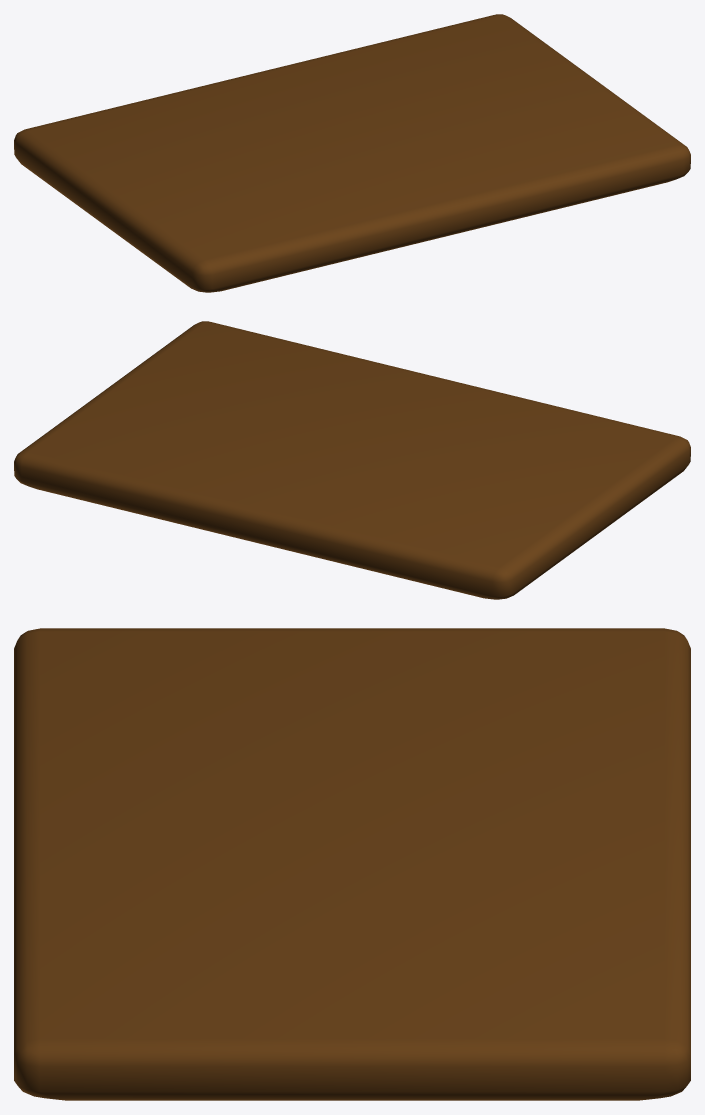
3 renders of one model, top to bottom at view 1: azimuth 30°, elevation 25°; view 2: azimuth 150°, elevation 25°; view 3: azimuth 270°, elevation 25°, orthographic. The views are drawn at different scales.
Parts seen in each view (by area): view 1: Cube.029; view 2: Cube.029; view 3: Cube.029.
Boxes of the visible parts, x1,y1,x2,y2 form: Cube.029: (14,14,690,292); Cube.029: (14,321,690,599); Cube.029: (14,628,690,1100).
Size of the model in its own units: 156 by 9.96 by 104.
